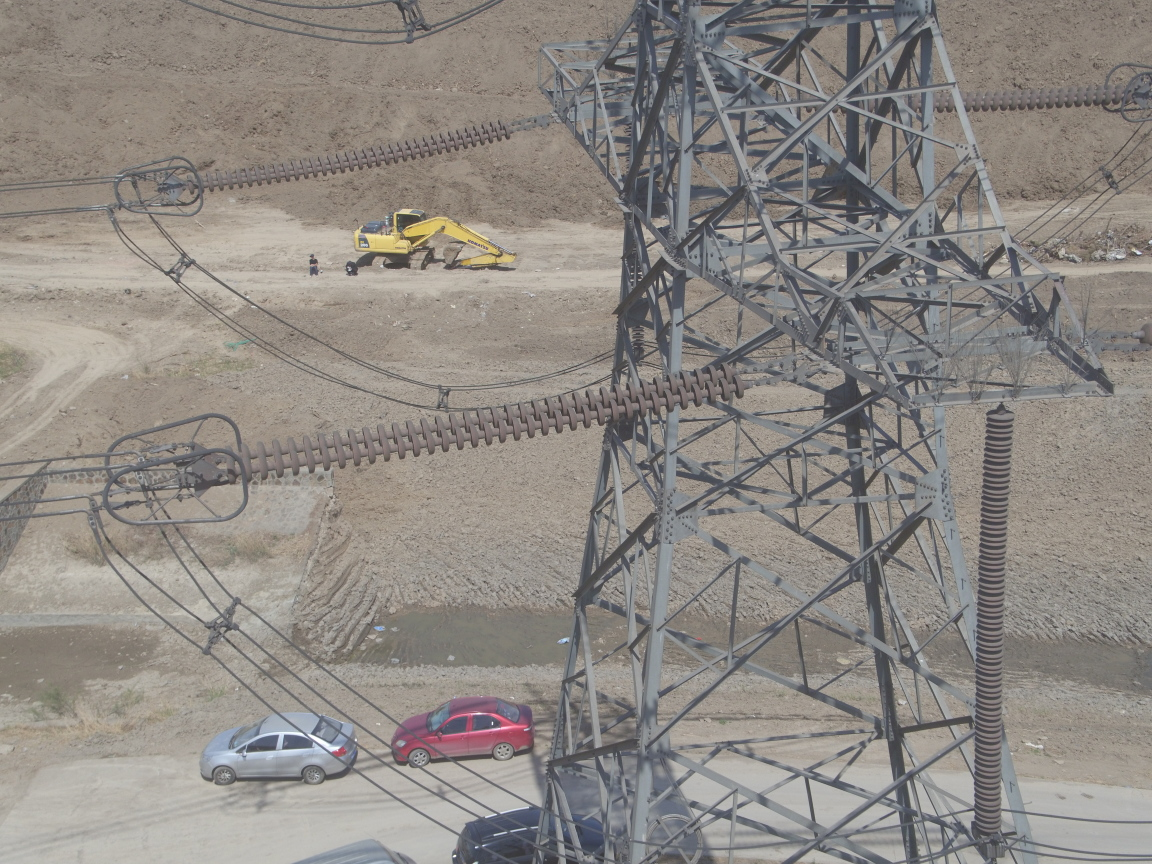insulator: (208, 355, 772, 488), (178, 115, 526, 195)
